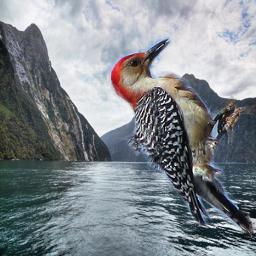Woodpecker: (108, 37, 256, 238)
